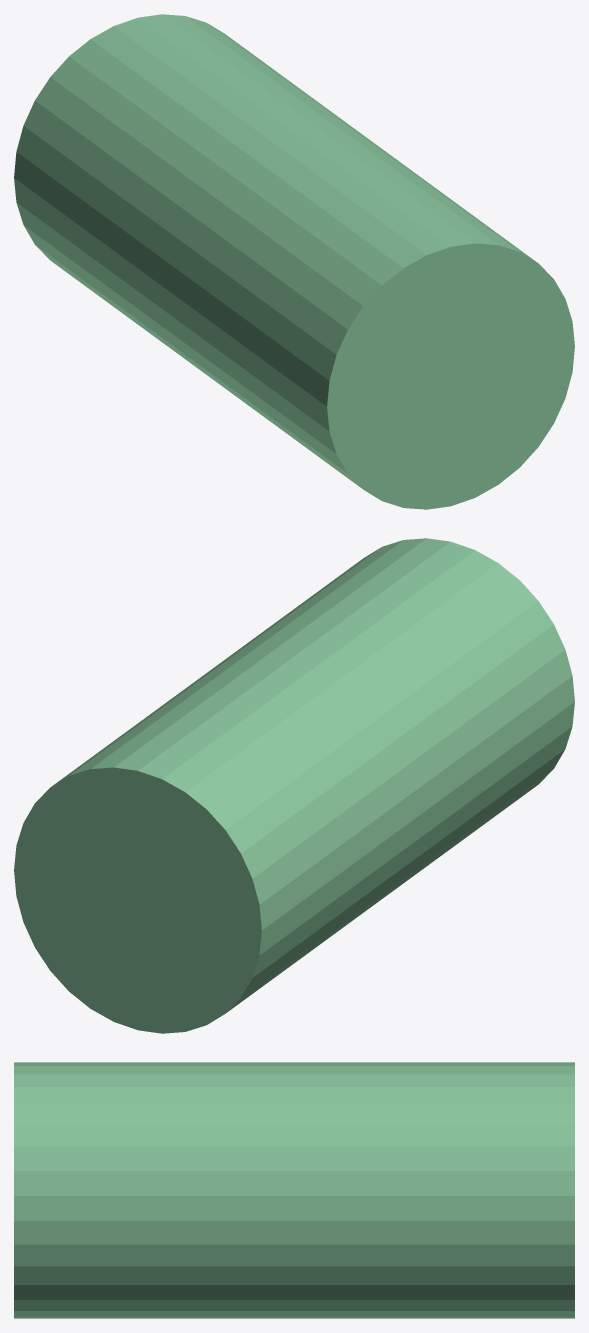
The picture shows the model from 3 angles, top to bottom: view 1: azimuth 30°, elevation 25°; view 2: azimuth 150°, elevation 25°; view 3: azimuth 270°, elevation 25°; orthographic projection. The views are drawn at different scales.
Visible parts, largest first — view 1: world; view 2: world; view 3: world.
Part boxes in pixels (x1=…): world: x1=14, y1=14, x2=574, y2=509; world: x1=14, y1=538, x2=574, y2=1033; world: x1=14, y1=1062, x2=574, y2=1318.
Size of the model in its own units: 0.16 by 0.16 by 0.35.
